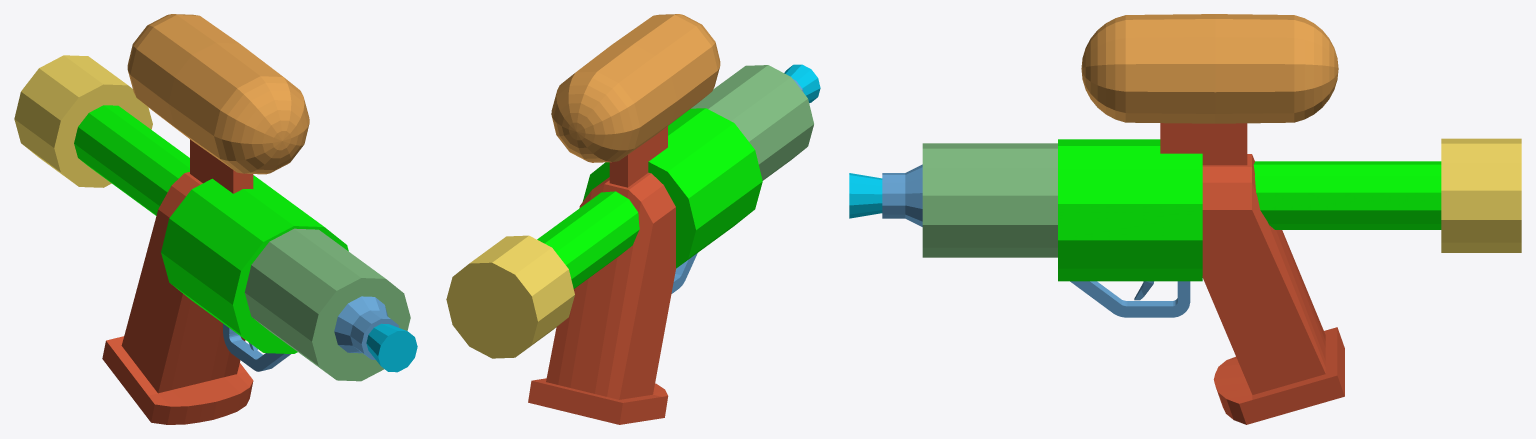
File: gun_c.fbx
3 renders of one model, left to right at view 1: azimuth 30°, elevation 25°; view 2: azimuth 150°, elevation 25°; view 3: azimuth 270°, elevation 25°, orthographic. The views are drawn at different scales.
Visible parts, largest first — view 1: Cylinder.003; view 2: Cylinder.003; view 3: Cylinder.003.
Boxes of the visible parts, x1=… form: Cylinder.003: x1=14, y1=14, x2=417, y2=424; Cylinder.003: x1=446, y1=14, x2=820, y2=424; Cylinder.003: x1=849, y1=14, x2=1521, y2=424.
Bounding box in the file's own units: 124 × 367 × 586.
